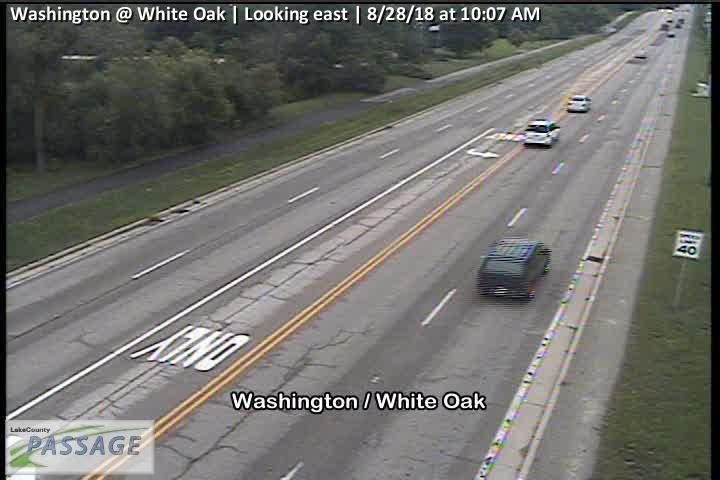SUV: (475, 235, 553, 304), (521, 117, 563, 150)
Sedan: (566, 94, 592, 113), (633, 51, 649, 59)
